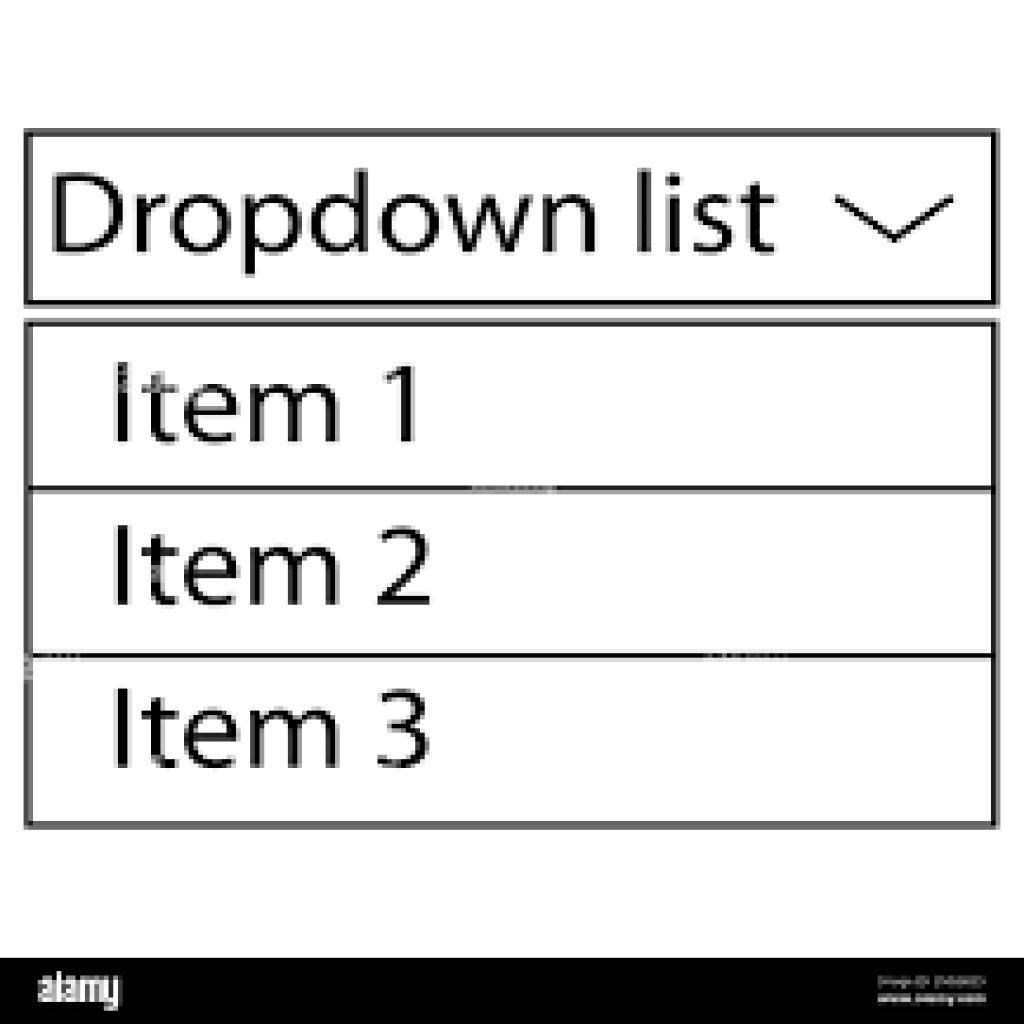dropdown: (24, 135, 994, 309)
